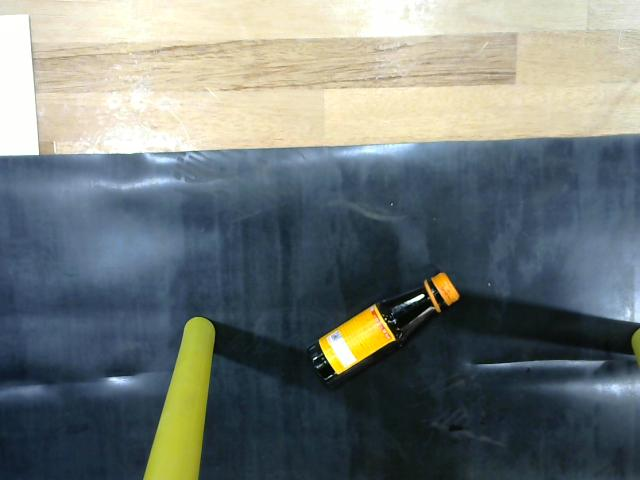glass: (306, 262, 472, 396)
